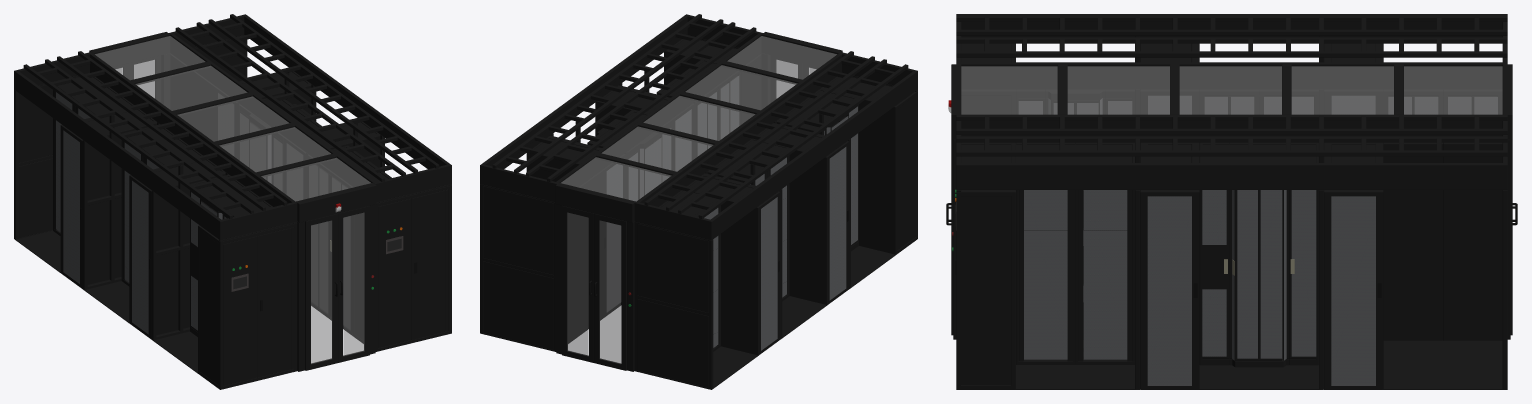
File: WMK2.FBX
3 renders of one model, left to right at view 1: azimuth 30°, elevation 25°; view 2: azimuth 150°, elevation 25°; view 3: azimuth 270°, elevation 25°, orthographic. The views are drawn at different scales.
Parts seen in each view (by area): view 1: 微模块2; view 2: 微模块2; view 3: 微模块2.
Boxes of the visible parts, bbox=[...] form: 微模块2: bbox=[14, 14, 451, 389]; 微模块2: bbox=[480, 14, 917, 389]; 微模块2: bbox=[946, 14, 1517, 389].
Bounding box in the file's own units: 3609 × 2550 × 5754.
Materials: 12 (1 with a texture image).
